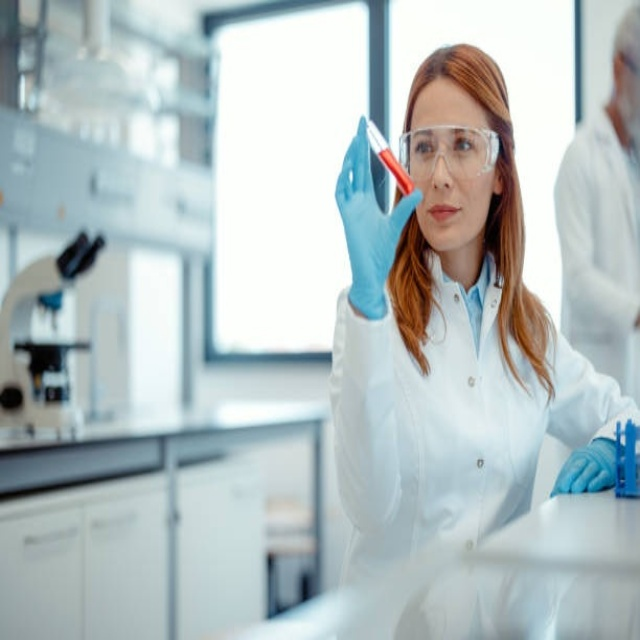Gafas: (399, 124, 499, 185)
Guantes: (335, 113, 424, 320), (550, 436, 621, 496)
Sin_mascara: (426, 193, 470, 243)
